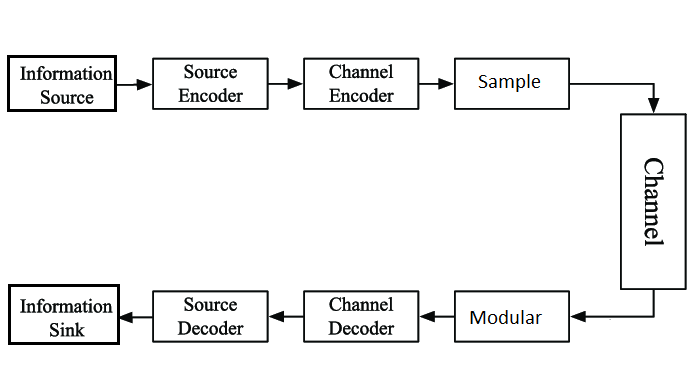arrow: (570, 80, 660, 113), (571, 289, 658, 322), (420, 309, 456, 325), (267, 309, 303, 324), (118, 309, 152, 324), (418, 78, 456, 91), (270, 77, 303, 90), (116, 79, 154, 90)
process: (618, 111, 689, 292), (6, 282, 122, 348), (5, 53, 120, 115), (150, 55, 272, 113), (149, 287, 271, 344), (301, 288, 421, 345), (452, 55, 572, 111), (451, 288, 571, 344), (302, 55, 421, 111)
text: (17, 60, 112, 105), (18, 295, 111, 338), (327, 295, 398, 337), (327, 61, 394, 104), (176, 295, 243, 336), (175, 63, 243, 102), (640, 152, 668, 246), (468, 306, 543, 327), (476, 72, 541, 93)
